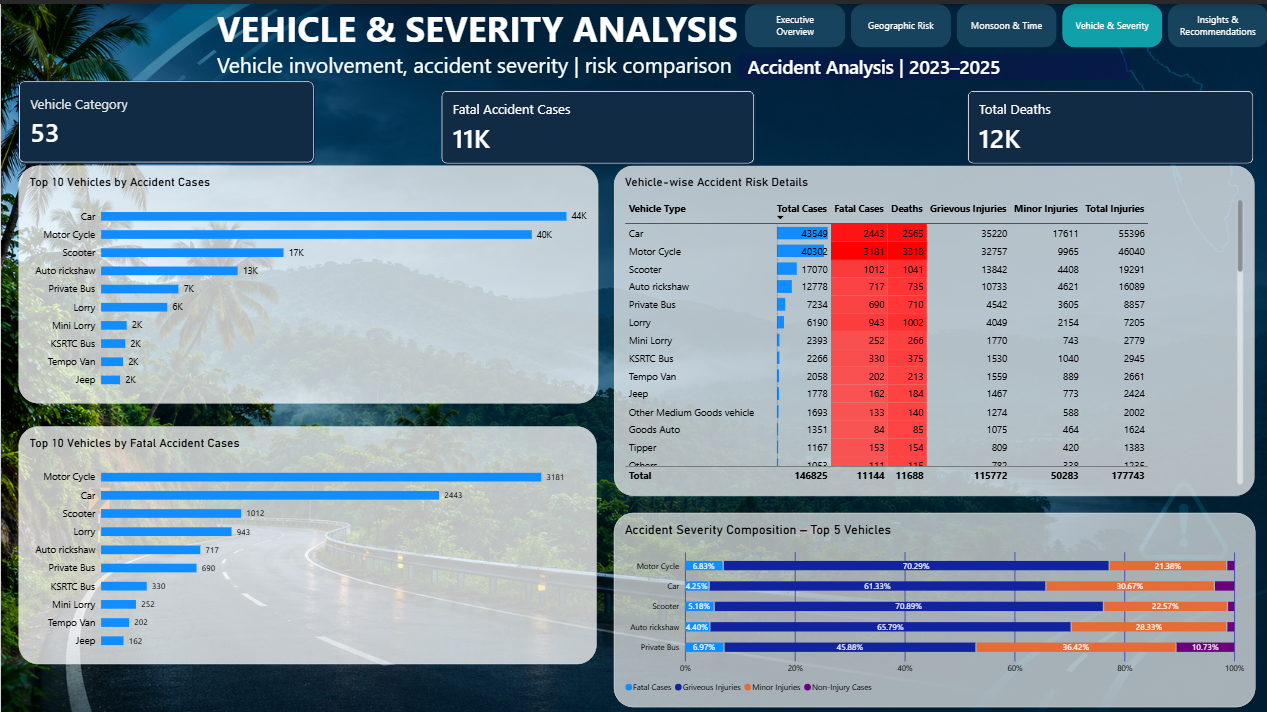

Layout of this report page (visuals, bound fields, positions):
{"tool":"powerbi","page":{"name":"Vehicle & Severity","canvas":[1920,1080],"ordinal":3},"visuals":[{"type":"textbox","box":[326.6,0,800.5,132.4],"z":0},{"type":"cardVisual","fields":{"Data":["Calculation_tbl.Vehicle Categories"]},"box":[27.8,115.3,448.3,126],"z":1000},{"type":"cardVisual","fields":{"Data":["Calculation_tbl.Vehicle Fatal Cases"]},"box":[666.1,130.2,476,112.5],"z":2000},{"type":"cardVisual","fields":{"Data":["Calculation_tbl.Vehicle Deaths"]},"box":[1464,130,434,112],"z":3000},{"type":"clusteredBarChart","title":"Top 10 Vehicles by Accident Cases","fields":{"Category":["DimVehicleType.VehicleType"],"Y":["Calculation_tbl.Vehicle Accident Cases"]},"box":[27.5,245,877.5,360],"z":4000},{"type":"clusteredBarChart","title":"Top 10 Vehicles by Fatal Accident Cases","fields":{"Category":["DimVehicleType.VehicleType"],"Y":["Sum(FactVehicleType.FatalCases)"]},"box":[27.5,640,875,360],"z":5000},{"type":"tableEx","title":"Vehicle-wise Accident Risk Details","fields":{"Values":["DimVehicleType.VehicleType","Sum(FactVehicleType.TotalCases)","Sum(FactVehicleType.FatalCases)","Sum(FactVehicleType.Deaths)","Sum(FactVehicleType.GrievousInjuries)","Sum(FactVehicleType.MinorInjuries)","Sum(FactVehicleType.TotalInjuries)"]},"box":[927.5,245,970,500],"z":6000},{"type":"hundredPercentStackedBarChart","title":"Accident Severity Composition – Top 5 Vehicles","fields":{"Category":["FactVehicleType.VehicleType"],"Y":["Sum(FactVehicleType.FatalCases)","Sum(FactVehicleType.GrievousInjuries)","Sum(FactVehicleType.MinorInjuries)","Sum(FactVehicleType.NonInjuryCases)"]},"box":[926.5,770.7,971.3,294.6],"z":7000},{"type":"pageNavigator","box":[1127.2,0,792,66.2],"z":9000},{"type":"cardVisual","fields":{"Data":["Calculation_tbl.Dynamic Report Subtitle"]},"box":[1114,76,596,40],"z":10000}]}

Visuals, with their boxes in screenshot pixels (x1, y1, x2, y2), scaled from the page's 1920x1080 canvas onto the 1267x712 screenshot:
textbox: [left=216, top=0, right=744, bottom=87]
cardVisual - Calculation_tbl.Vehicle Categories: [left=18, top=76, right=314, bottom=159]
cardVisual - Calculation_tbl.Vehicle Fatal Cases: [left=440, top=86, right=754, bottom=160]
cardVisual - Calculation_tbl.Vehicle Deaths: [left=966, top=86, right=1252, bottom=160]
"Top 10 Vehicles by Accident Cases" clusteredBarChart: [left=18, top=162, right=597, bottom=399]
"Top 10 Vehicles by Fatal Accident Cases" clusteredBarChart: [left=18, top=422, right=596, bottom=659]
"Vehicle-wise Accident Risk Details" tableEx: [left=612, top=162, right=1252, bottom=491]
"Accident Severity Composition – Top 5 Vehicles" hundredPercentStackedBarChart: [left=611, top=508, right=1252, bottom=702]
pageNavigator: [left=744, top=0, right=1266, bottom=44]
cardVisual - Calculation_tbl.Dynamic Report Subtitle: [left=735, top=50, right=1128, bottom=76]
